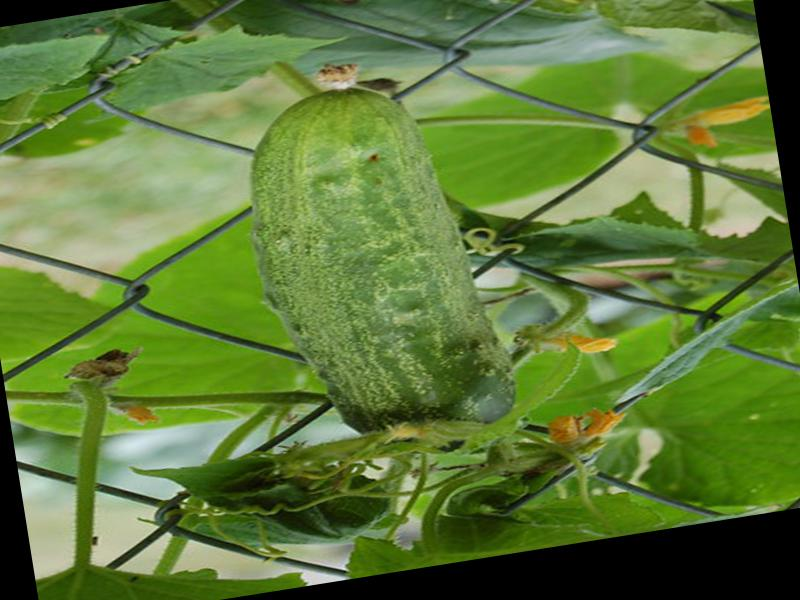Cucumber: (234, 48, 517, 472)
